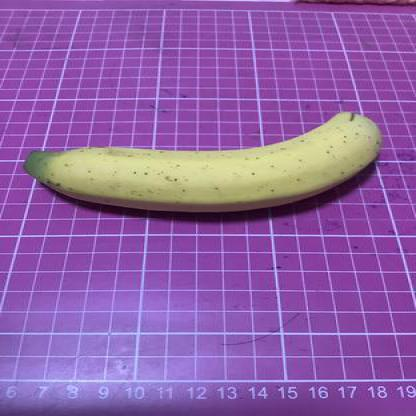bananarotation: (19, 107, 384, 217)
